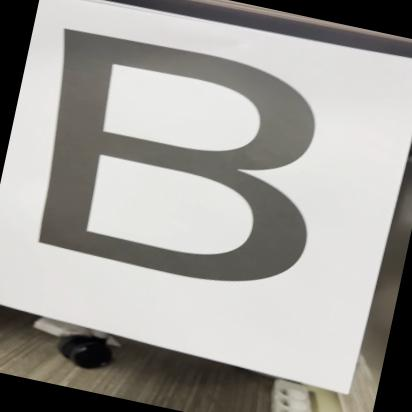seat: (0, 8, 352, 313)
